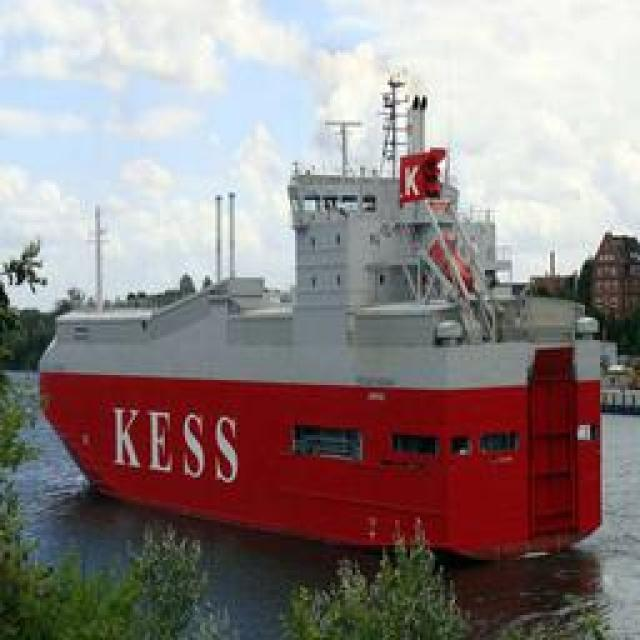CIV_Ship: (36, 288, 612, 568)
